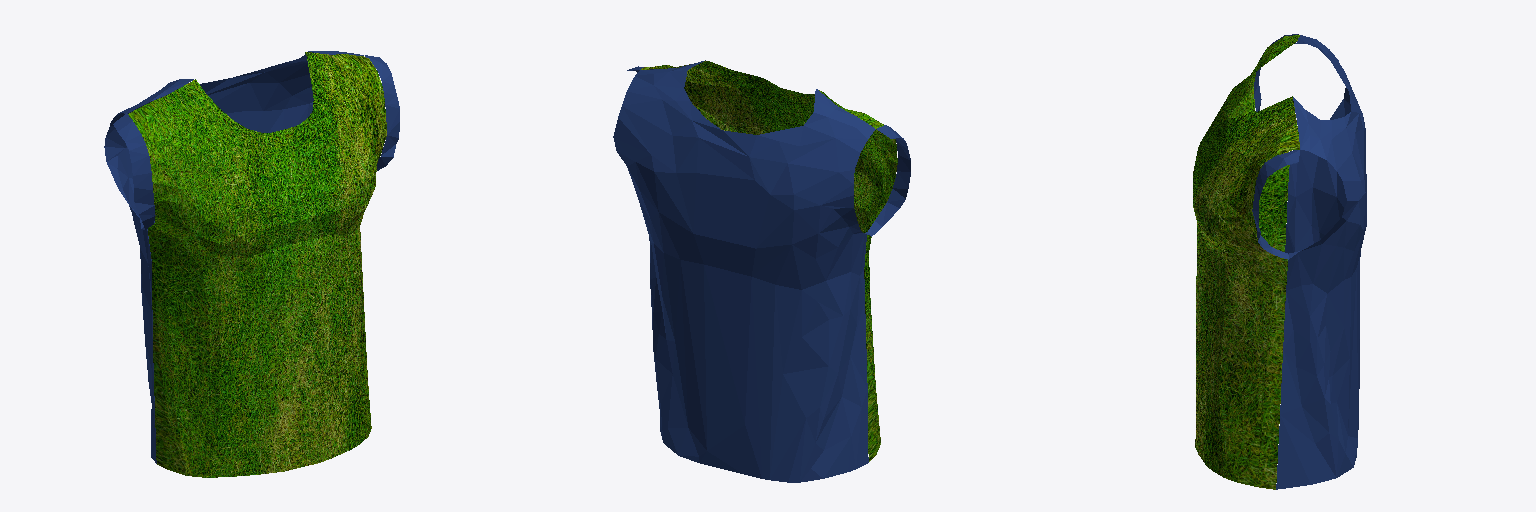
The picture shows the model from 3 angles: view 1: azimuth 30°, elevation 25°; view 2: azimuth 150°, elevation 25°; view 3: azimuth 270°, elevation 25°; orthographic projection.
Visible parts, largest first — view 1: T_shirt.005; view 2: T_shirt.005; view 3: T_shirt.005.
Part boxes in pixels (left/top/right/bottom): T_shirt.005: left=104, top=51, right=399, bottom=477; T_shirt.005: left=613, top=60, right=910, bottom=482; T_shirt.005: left=1193, top=34, right=1366, bottom=489.
Size of the model in its own units: 0.2935 by 0.3892 by 0.1639.
Materials: 2 (1 with a texture image).